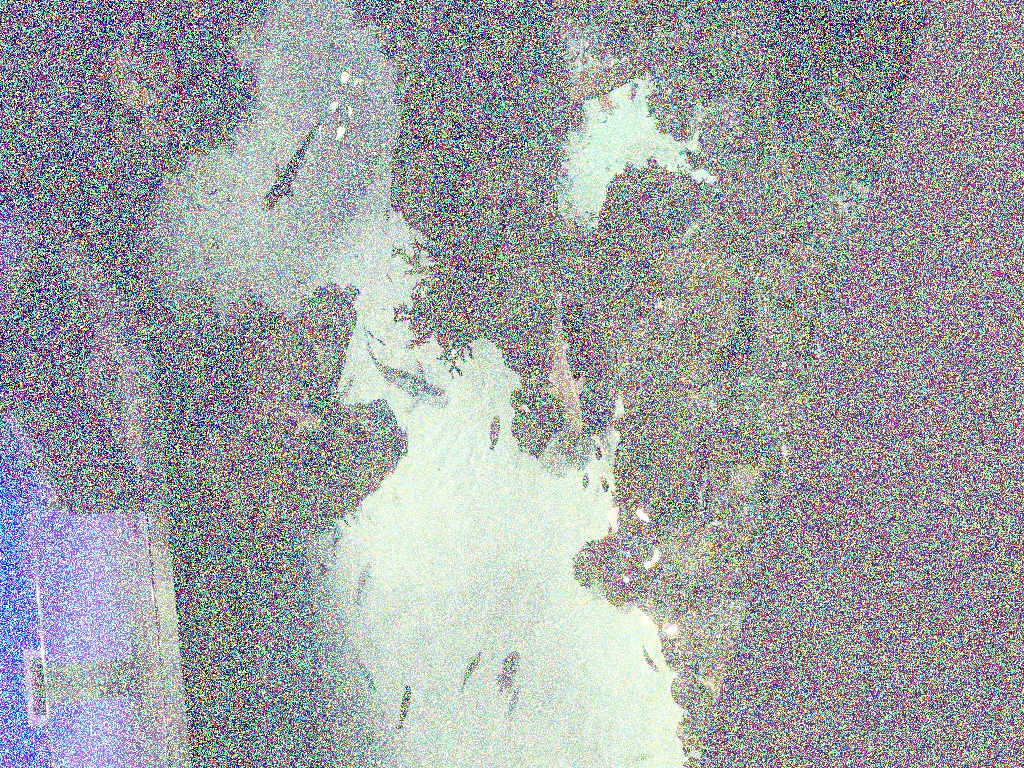fish: (457, 649, 483, 693), (352, 650, 378, 692), (352, 564, 372, 608), (396, 683, 412, 731), (638, 644, 662, 676), (274, 570, 292, 608), (486, 413, 502, 453), (330, 524, 342, 566), (359, 728, 375, 748), (598, 476, 612, 494), (592, 444, 606, 462), (580, 472, 590, 492), (350, 282, 362, 296), (318, 561, 328, 577), (382, 206, 390, 222), (366, 329, 374, 339), (377, 338, 387, 346), (296, 277, 306, 285)
shark: (566, 46, 686, 116), (540, 278, 586, 440), (257, 118, 329, 214), (364, 337, 448, 401), (261, 384, 325, 436)
